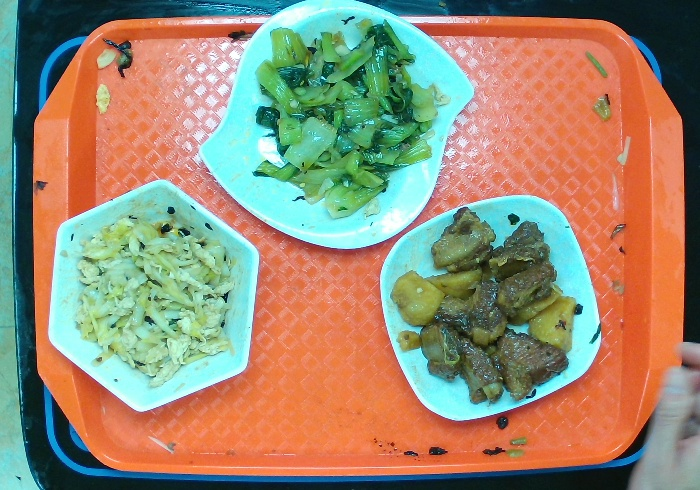RJxy-Liu_Jiao_Wan: (47, 178, 264, 410)
RJxy-Shuang_Jiao_Pan: (202, 3, 471, 251)
RJxy-Si_Fang_Wan: (375, 192, 602, 420)
